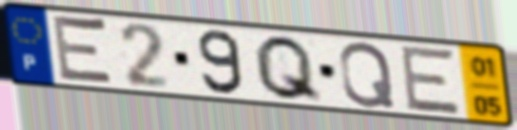2: (115, 21, 173, 91)
9: (196, 28, 246, 97)
E: (50, 11, 118, 90), (399, 43, 464, 117)
Q: (251, 33, 326, 105), (336, 40, 398, 110)
